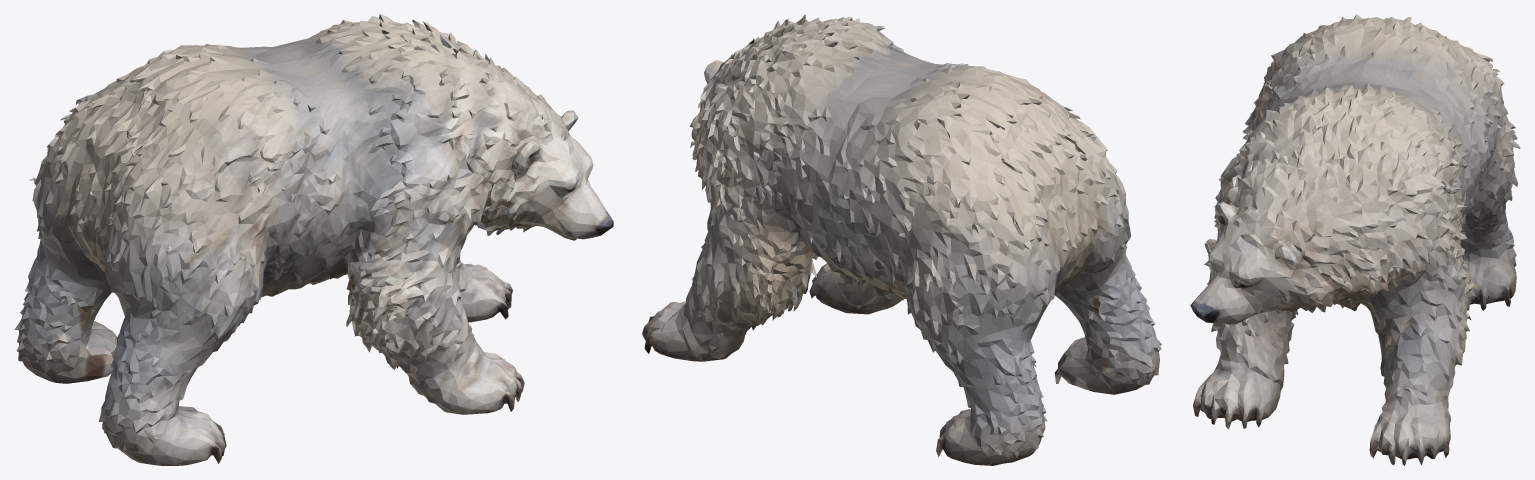
Rendered from snow_bear.glb.
3 renders of one model, left to right at view 1: azimuth 30°, elevation 25°; view 2: azimuth 150°, elevation 25°; view 3: azimuth 270°, elevation 25°, orthographic. The views are drawn at different scales.
Visible parts, largest first — view 1: temp_mesh.ply; view 2: temp_mesh.ply; view 3: temp_mesh.ply.
Boxes of the visible parts, <box> form: temp_mesh.ply: <box>14,14,613,465</box>; temp_mesh.ply: <box>642,14,1161,465</box>; temp_mesh.ply: <box>1190,14,1520,465</box>.
Bounding box in the file's own units: 1.95 × 1.31 × 1.29.
1 material, 1 textured.
